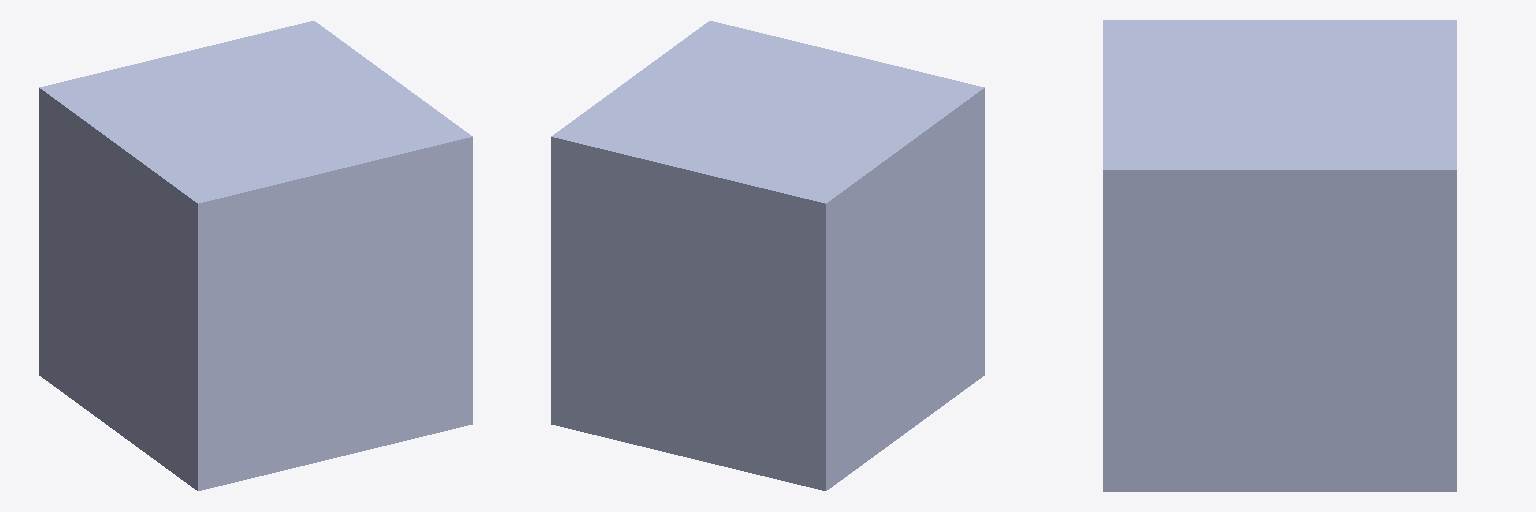
robot.urdf — Assem1(URDF).SLDASM:
<?xml version="1.0" encoding="utf-8"?>
<!-- This URDF was automatically created by SolidWorks to URDF Exporter! Originally created by [author] ([email redacted]) 
     Commit Version: 1.6.0-4-g7f85cfe  Build Version: 1.6.7995.38578
     For more information, please see http://wiki.ros.org/sw_urdf_exporter -->
<robot
  name="Assem1(URDF).SLDASM">
  <link
    name="base_link">
    <inertial>
      <origin
        xyz="0 0 0"
        rpy="0 0 0" />
      <mass
        value="100" />
      <inertia
        ixx="5.2083"
        ixy="0"
        ixz="0"
        iyy="5.2083"
        iyz="0"
        izz="5.2083" />
    </inertial>
    <visual>
      <origin
        xyz="0 0 0"
        rpy="0 0 0" />
      <geometry>
        <mesh
          filename="package://Assem1(URDF).SLDASM/meshes/base_link.STL" />
      </geometry>
      <material
        name="">
        <color
          rgba="0.79216 0.81961 0.93333 1" />
      </material>
    </visual>
    <collision>
      <origin
        xyz="0 0 0"
        rpy="0 0 0" />
      <geometry>
        <mesh
          filename="package://Assem1(URDF).SLDASM/meshes/base_link.STL" />
      </geometry>
    </collision>
  </link>
</robot>

--- Facts derived from the render (not from the file) ---
3 views of the same robot in one strip: view 1: azimuth 30°, elevation 25°; view 2: azimuth 150°, elevation 25°; view 3: azimuth 270°, elevation 25° (orthographic).
Robot: Assem1(URDF).SLDASM — 1 links, 0 joints (none); root link base_link; default pose: every joint at zero.
Links seen in each view (by area): view 1: base_link; view 2: base_link; view 3: base_link.
Boxes of the visible links, <box> form: base_link: <box>39,21,472,490</box>; base_link: <box>551,21,984,490</box>; base_link: <box>1103,20,1456,491</box>.
Size in the robot's own frame: 0.5 by 0.5 by 0.5 metres.
Meshes: 1 distinct files referenced, 1 mesh visuals loaded (1 binary STL).